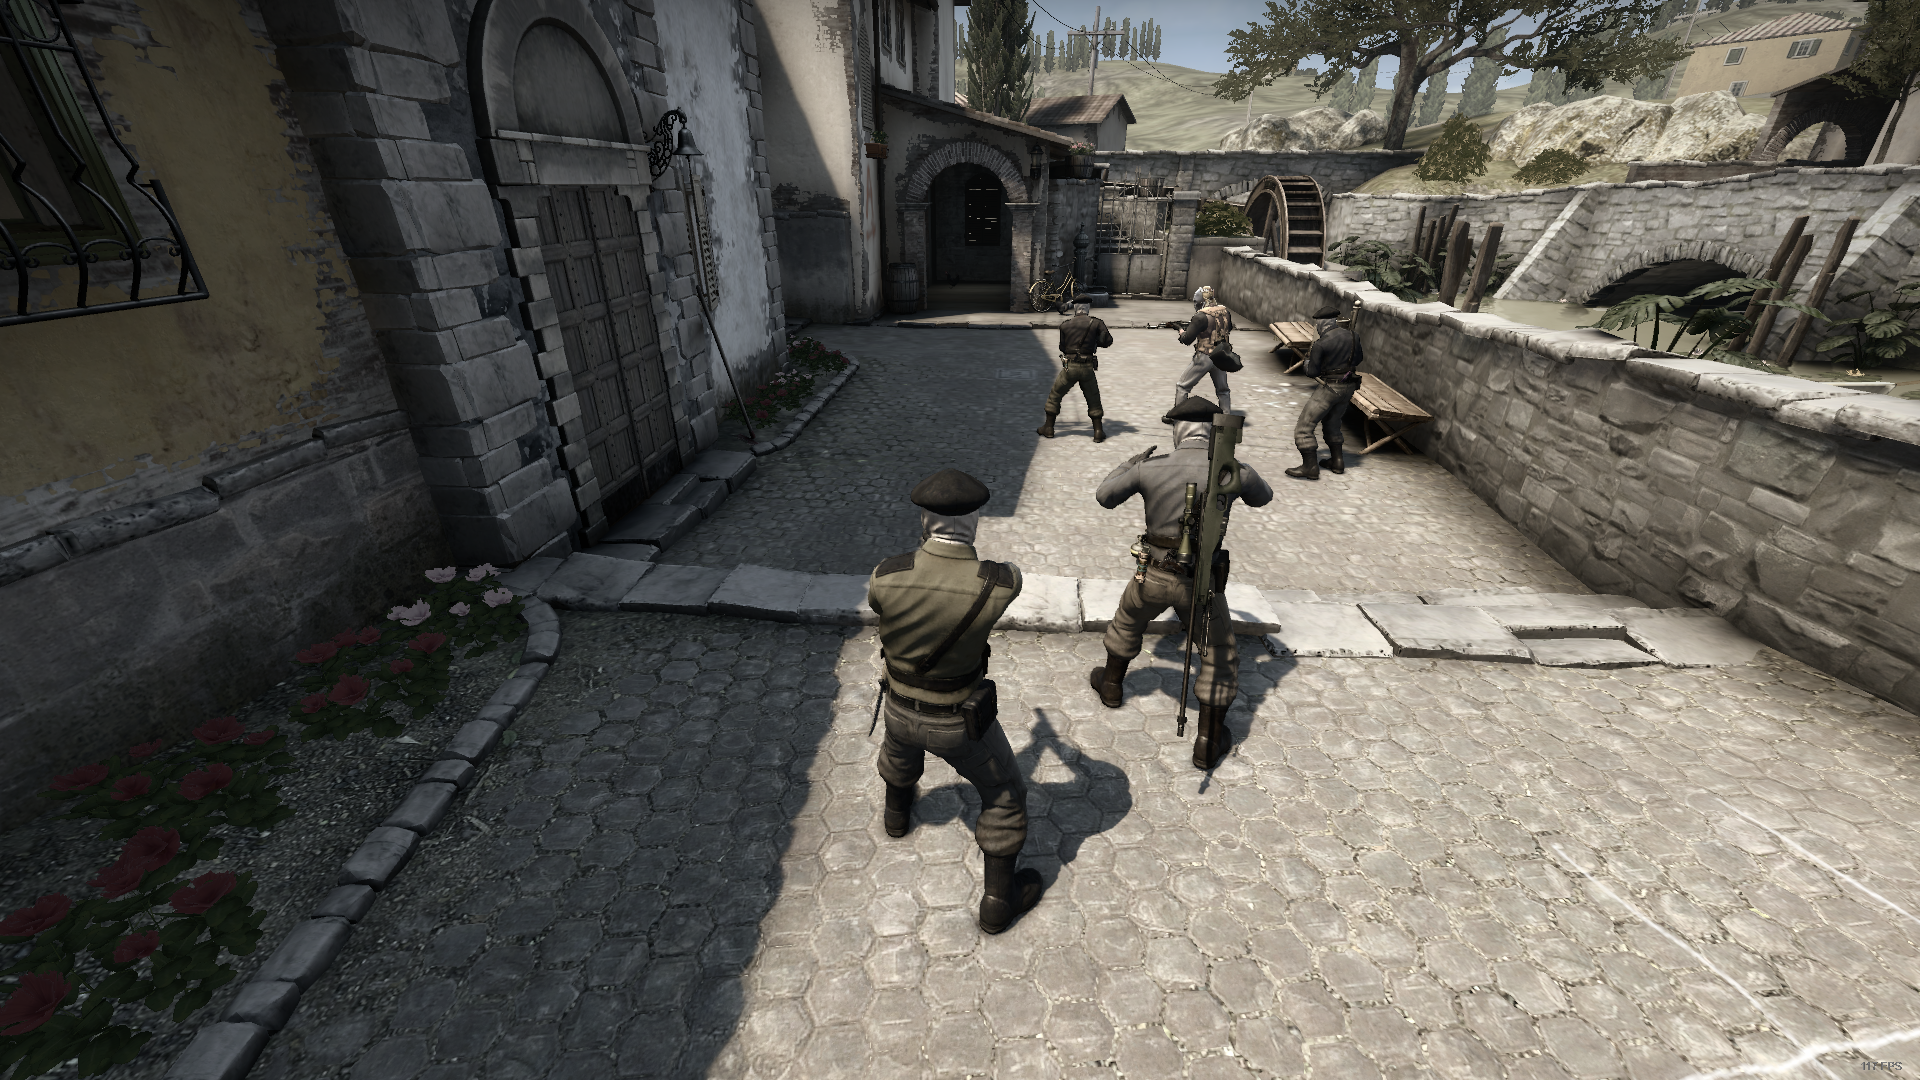t: (864, 469, 1044, 934), (1091, 396, 1275, 769), (1284, 306, 1364, 483), (1038, 291, 1113, 440)
